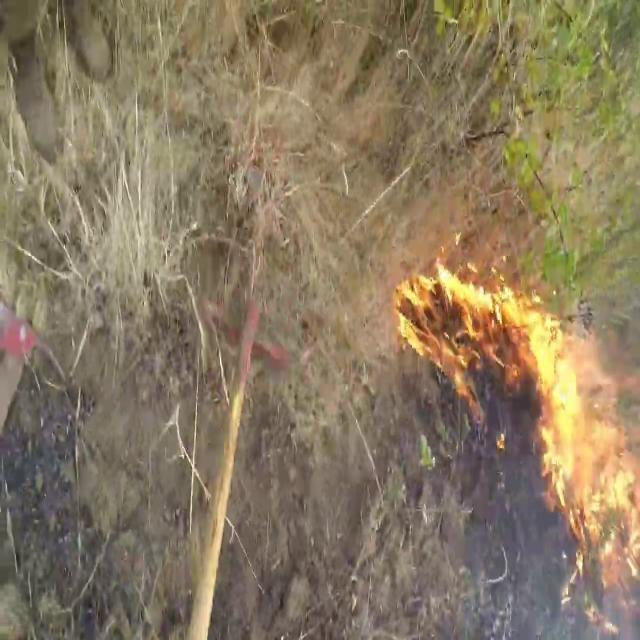Fire: (518, 294, 640, 622), (388, 236, 546, 394)
